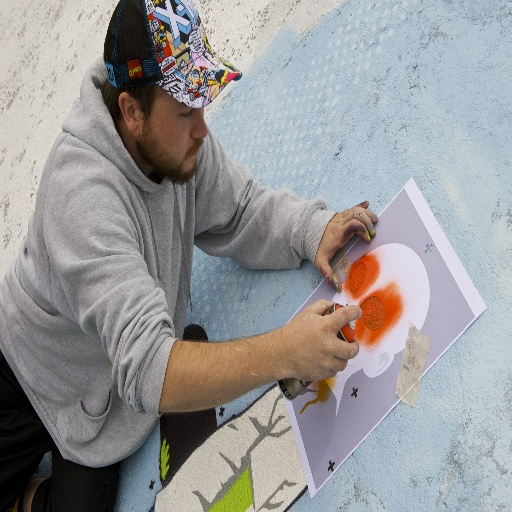hand: (283, 297, 363, 383), (321, 198, 379, 263)
